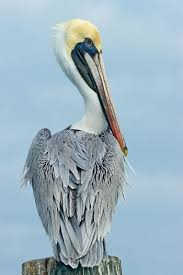pelican: (26, 19, 129, 271)
